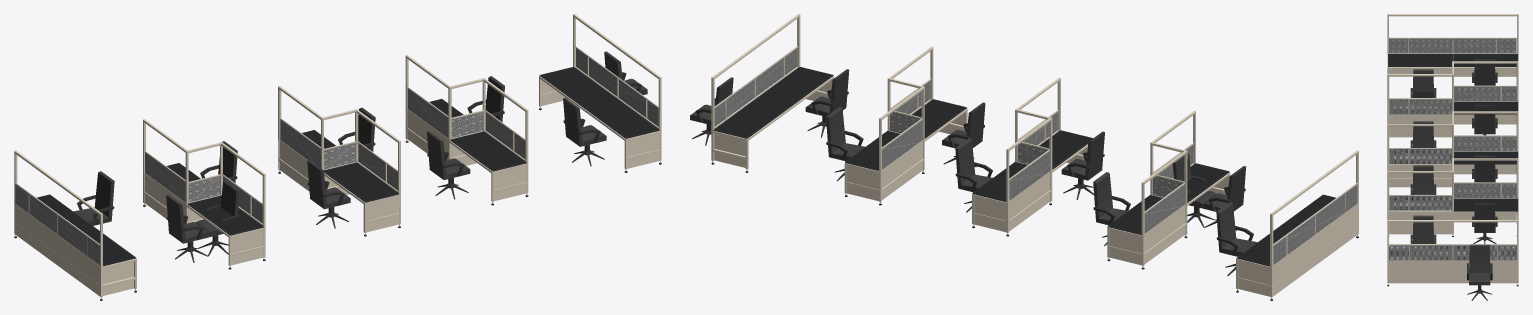
The model's file is paste.glb.
The picture shows the model from 3 angles, left to right: view 1: azimuth 30°, elevation 25°; view 2: azimuth 150°, elevation 25°; view 3: azimuth 270°, elevation 25°; orthographic projection. The views are drawn at different scales.
Parts seen in each view (by area): view 1: P_A_check_desk02, P_A_check_desk02_2, P_A_check_desk01_2, P_A_check_desk01, P_A_check_desk02_3, P_Chair02_7, P_Chair02_6, P_Chair02_9, P_Chair02_8, P_Chair02, P_Chair02_5, P_Chair02_4 (+3 smaller); view 2: P_A_check_desk01_2, P_A_check_desk02, P_A_check_desk02_2, P_A_check_desk01, P_A_check_desk02_3, P_Chair02_7, P_Chair02, P_Chair02_4, P_Chair02_3, P_Chair02_9, P_Chair02_2, P_Chair02_6 (+3 smaller); view 3: P_A_check_desk01_2, P_A_check_desk01, P_A_check_desk02, P_A_check_desk02_3, P_A_check_desk02_2, P_Chair02_10, P_Chair02_4, P_Chair02_2, P_Chair02_8, P_Chair02_9, P_Chair02_3, P_Chair02 (+3 smaller).
Part boxes in pixels (x1,y1,x2,y2): P_A_check_desk02: [405, 55, 528, 205]; P_A_check_desk02_2: [278, 86, 400, 236]; P_A_check_desk01_2: [14, 150, 136, 300]; P_A_check_desk01: [539, 14, 661, 172]; P_A_check_desk02_3: [143, 119, 265, 269]; P_Chair02_7: [307, 160, 350, 228]; P_Chair02_6: [166, 194, 209, 262]; P_Chair02_9: [563, 98, 606, 166]; P_Chair02_8: [427, 131, 470, 199]; P_Chair02: [73, 171, 114, 225]; P_Chair02_5: [196, 180, 239, 256]; P_Chair02_4: [467, 76, 504, 122]; P_A_check_desk01_2: [1236, 150, 1358, 300]; P_A_check_desk02: [844, 46, 967, 205]; P_A_check_desk02_2: [972, 77, 1092, 236]; P_A_check_desk01: [711, 14, 834, 172]; P_A_check_desk02_3: [1107, 110, 1230, 269]; P_Chair02_7: [1061, 131, 1104, 199]; P_Chair02: [1216, 202, 1257, 276]; P_Chair02_4: [826, 107, 865, 180]; P_Chair02_3: [955, 138, 992, 212]; P_Chair02_9: [805, 69, 849, 137]; P_Chair02_2: [1093, 172, 1130, 246]; P_Chair02_6: [1202, 166, 1246, 233]; P_A_check_desk01_2: [1387, 14, 1518, 76]; P_A_check_desk01: [1387, 220, 1518, 286]; P_A_check_desk02: [1387, 158, 1518, 236]; P_A_check_desk02_3: [1387, 61, 1518, 137]; P_A_check_desk02_2: [1387, 111, 1518, 187]; P_Chair02_10: [1467, 244, 1492, 300]; P_Chair02_4: [1472, 203, 1497, 243]; P_Chair02_2: [1472, 105, 1497, 135]; P_Chair02_8: [1410, 165, 1436, 194]; P_Chair02_9: [1410, 215, 1436, 243]; P_Chair02_3: [1472, 155, 1497, 182]; P_Chair02: [1472, 59, 1497, 85].
Bounding box in the file's own units: 20.67 × 2.85 × 5.19.
5 materials, 5 textured.
